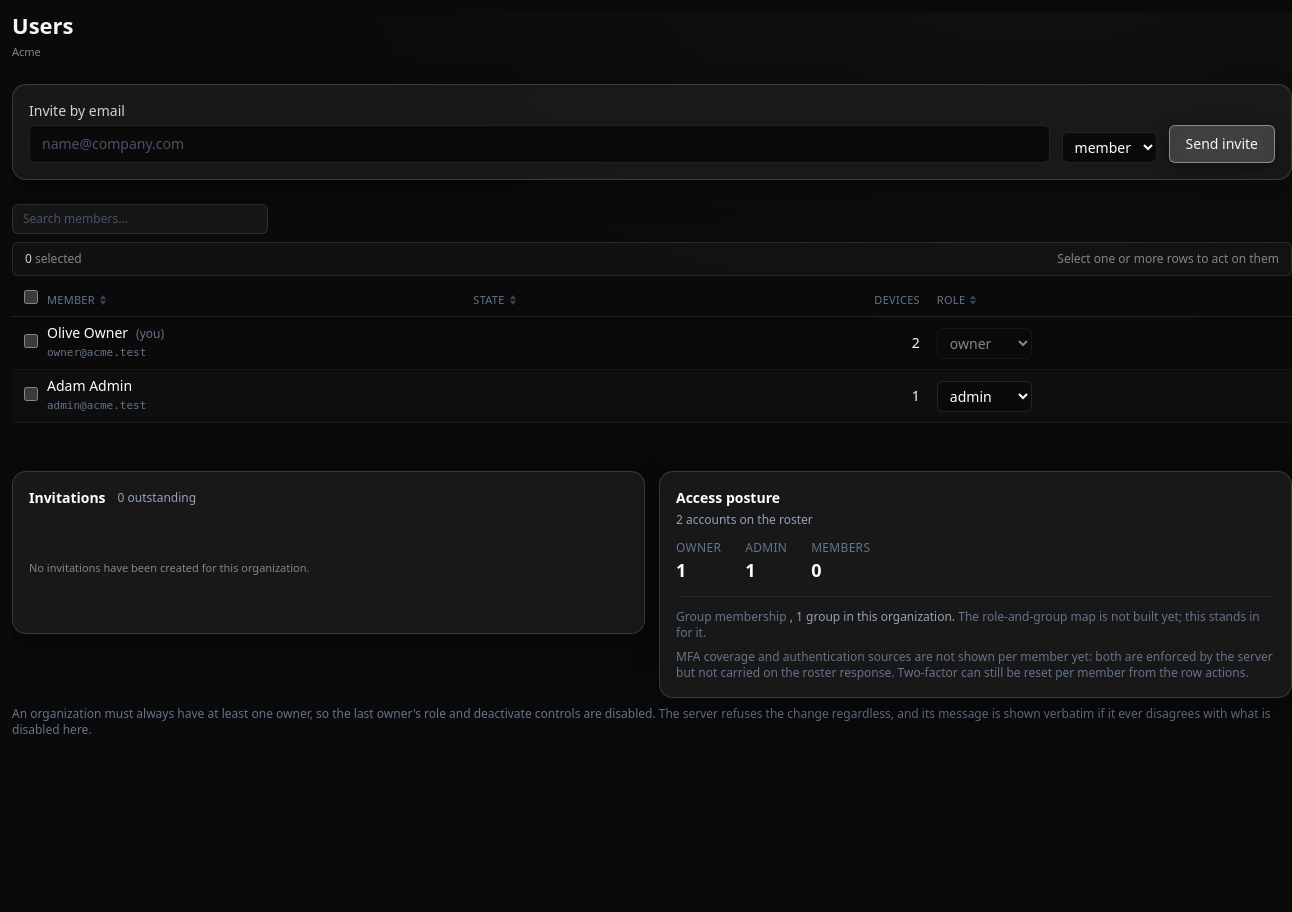
Scenario: Users, the filter › filters by email, and its empty state is NOT the roster's
This screenshot has width=1292, height=912.
Expected: the text "admin@acme.test" is shown, [47,399,146,412]
In the search field named "Filter Members": [140, 219] box [12,204,268,234], type "admin@"
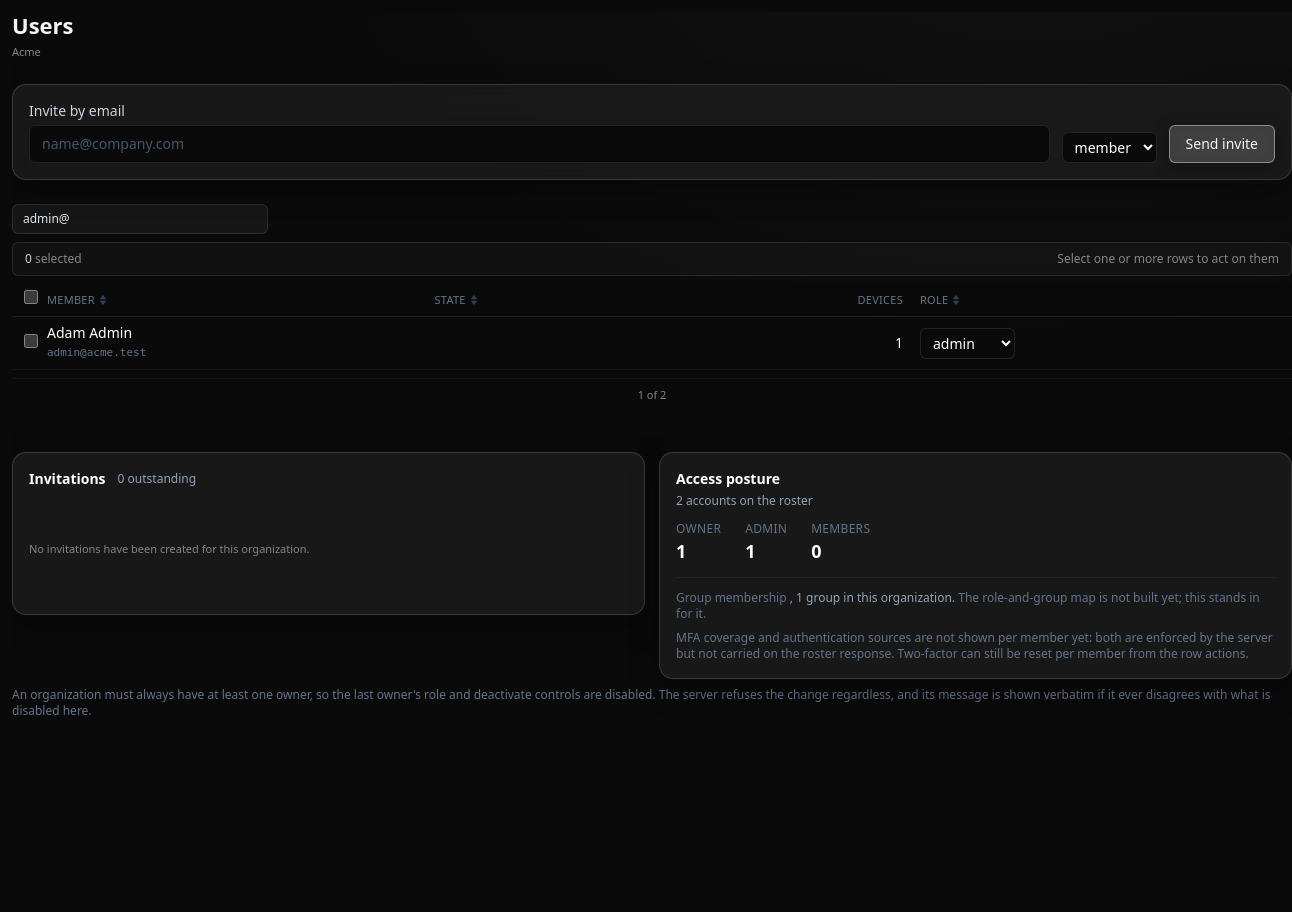
Expected: the text "admin@acme.test" is shown, [47,346,146,359]
Result: the text "owner@acme.test" is gone
Replace the text in the search field named "Filter Members" with "zzz-nobody": [140, 219] box [12,204,268,234]
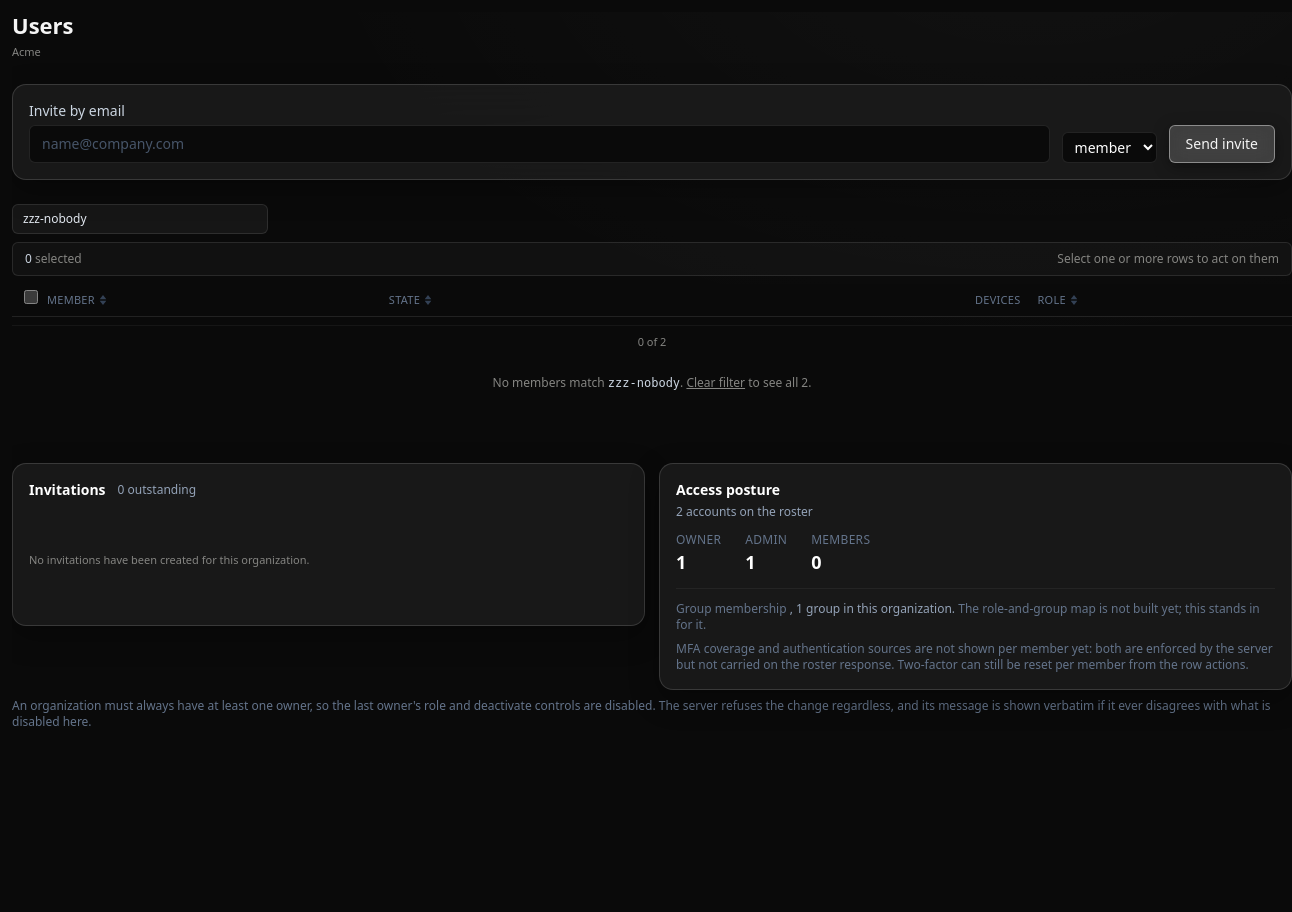
Result: the text "No members match zzz-nobody. Clear filter to see all 2." is shown at [492,374,811,390]
